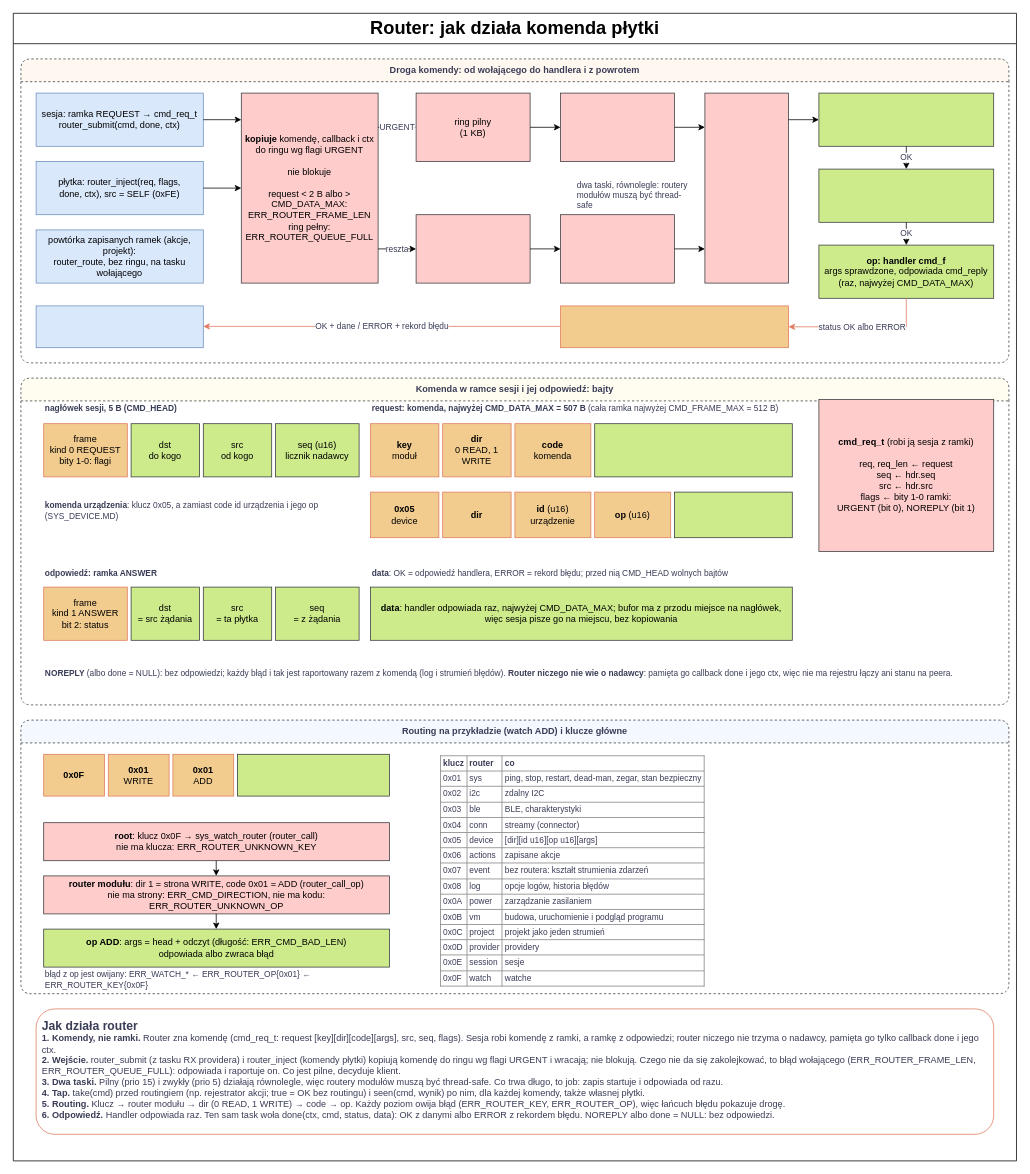
Some shapes in this 1030 by 1174 pixel diagram are drawn without their labels. Here are the shapes that lost their labels. From the top down, the centre of each, then its label:
(x=617, y=127): task pilny prio 15
(x=906, y=119): tablica kluczy (root) klucz → router modułu błąd: ERR_ROUTER_KEY
(x=746, y=187): tap take(cmd): true = OK bez routingu seen(cmd, wynik) po routingu
(x=906, y=195): router modułu dir + code → wiersz op błąd: ERR_ROUTER_OP
(x=472, y=248): ring zwykły (4 KB)
(x=617, y=248): task zwykły prio 5
(x=119, y=326): sesja składa ramkę ANSWER do src (albo wywołanie płytki bierze wynik)
(x=674, y=326): ten sam task, zaraz po komendzie: done(ctx, cmd, status, data)
(x=693, y=450): args spakowana struktura LE, długość sprawdzana co do bajta
(x=733, y=514): args
(x=313, y=775): [head][odczyt]
